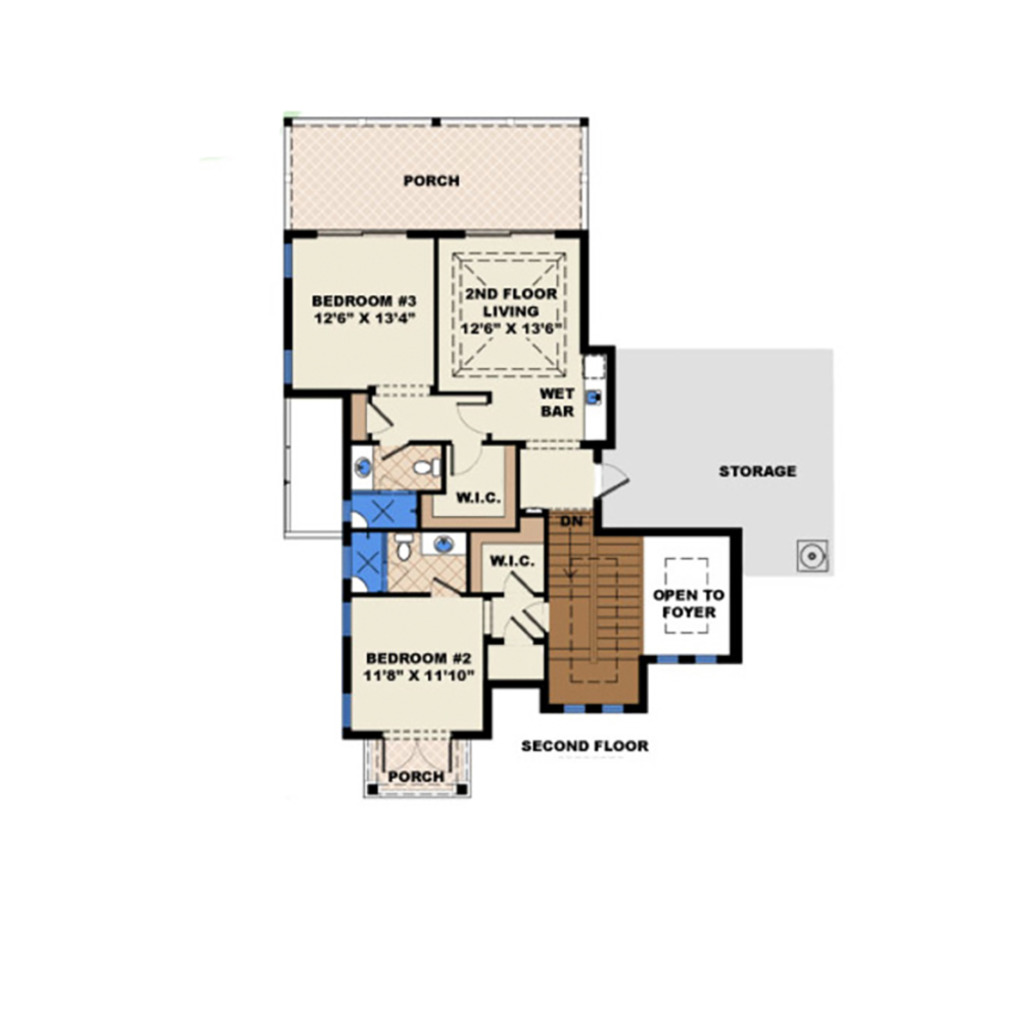door: (451, 395, 490, 436), (592, 461, 629, 502), (364, 398, 397, 437), (448, 440, 481, 479), (498, 613, 535, 646), (499, 570, 529, 598)
large_sink: (385, 525, 414, 566), (410, 455, 441, 484)
stairs: (546, 510, 647, 708)
